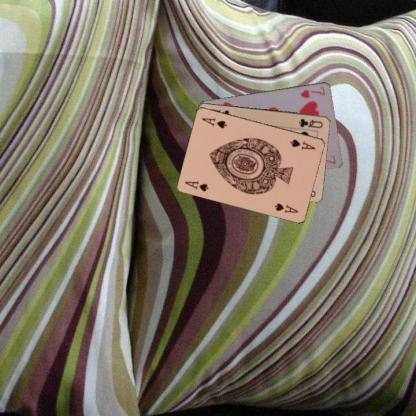7h: (298, 84, 326, 99)
As: (288, 136, 316, 150), (182, 178, 210, 192)
Qc: (297, 115, 324, 129)
